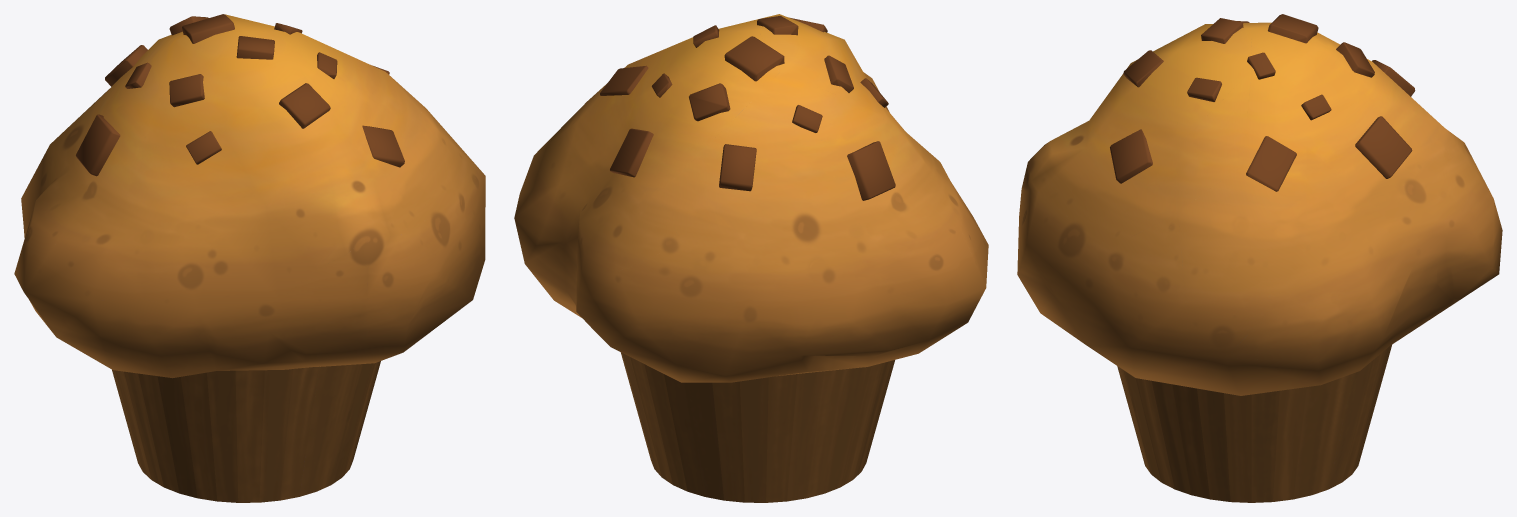
The model's file is BouncyMuffin.fbx.
3 renders of one model, left to right at view 1: azimuth 30°, elevation 25°; view 2: azimuth 150°, elevation 25°; view 3: azimuth 270°, elevation 25°, orthographic.
Parts seen in each view (by area): view 1: MuffinTop, MuffinBottom, Cube.003, Cube.002, Cube, Cube.012, Cube.014, Cube.013, Cube.005, Cube.006; view 2: MuffinTop, MuffinBottom, Cube.003, Cube.014, Cube.006, Cube.008, Cube.011, Cube.001, Cube.012, Cube.013, Cube.007; view 3: MuffinTop, MuffinBottom, Cube.008, Cube.001, Cube, Cube.014, Cube.002, Cube.011, Cube.013, Cube.004.
Boxes of the visible parts, x1,y1,x2,y2 form: MuffinTop: (14,14,485,378); MuffinBottom: (112,361,380,502); Cube.003: (76,114,120,176); Cube.002: (279,83,330,128); Cube: (362,125,404,167); Cube.012: (169,74,204,107); Cube.014: (182,14,234,43); Cube.013: (236,36,274,59); Cube.005: (186,131,221,164); Cube.006: (105,45,147,86); MuffinTop: (514,14,988,382); MuffinBottom: (621,352,894,502); Cube.003: (847,141,895,200); Cube.014: (724,36,784,81); Cube.006: (719,144,756,191); Cube.008: (610,128,653,177); Cube.011: (689,83,730,121); Cube.001: (600,65,648,95); Cube.012: (824,55,853,92); Cube.013: (757,16,798,35); Cube.007: (792,105,822,132); MuffinTop: (1017,22,1502,395); MuffinBottom: (1117,345,1391,502); Cube.008: (1355,116,1412,178); Cube.001: (1246,136,1296,191); Cube: (1110,129,1152,183); Cube.014: (1268,14,1318,43); Cube.002: (1123,50,1163,87); Cube.011: (1336,42,1374,77); Cube.013: (1201,18,1243,43); Cube.004: (1187,77,1221,101).
Size of the model in its own units: 580 by 549 by 560.
3 materials, 2 textured.
